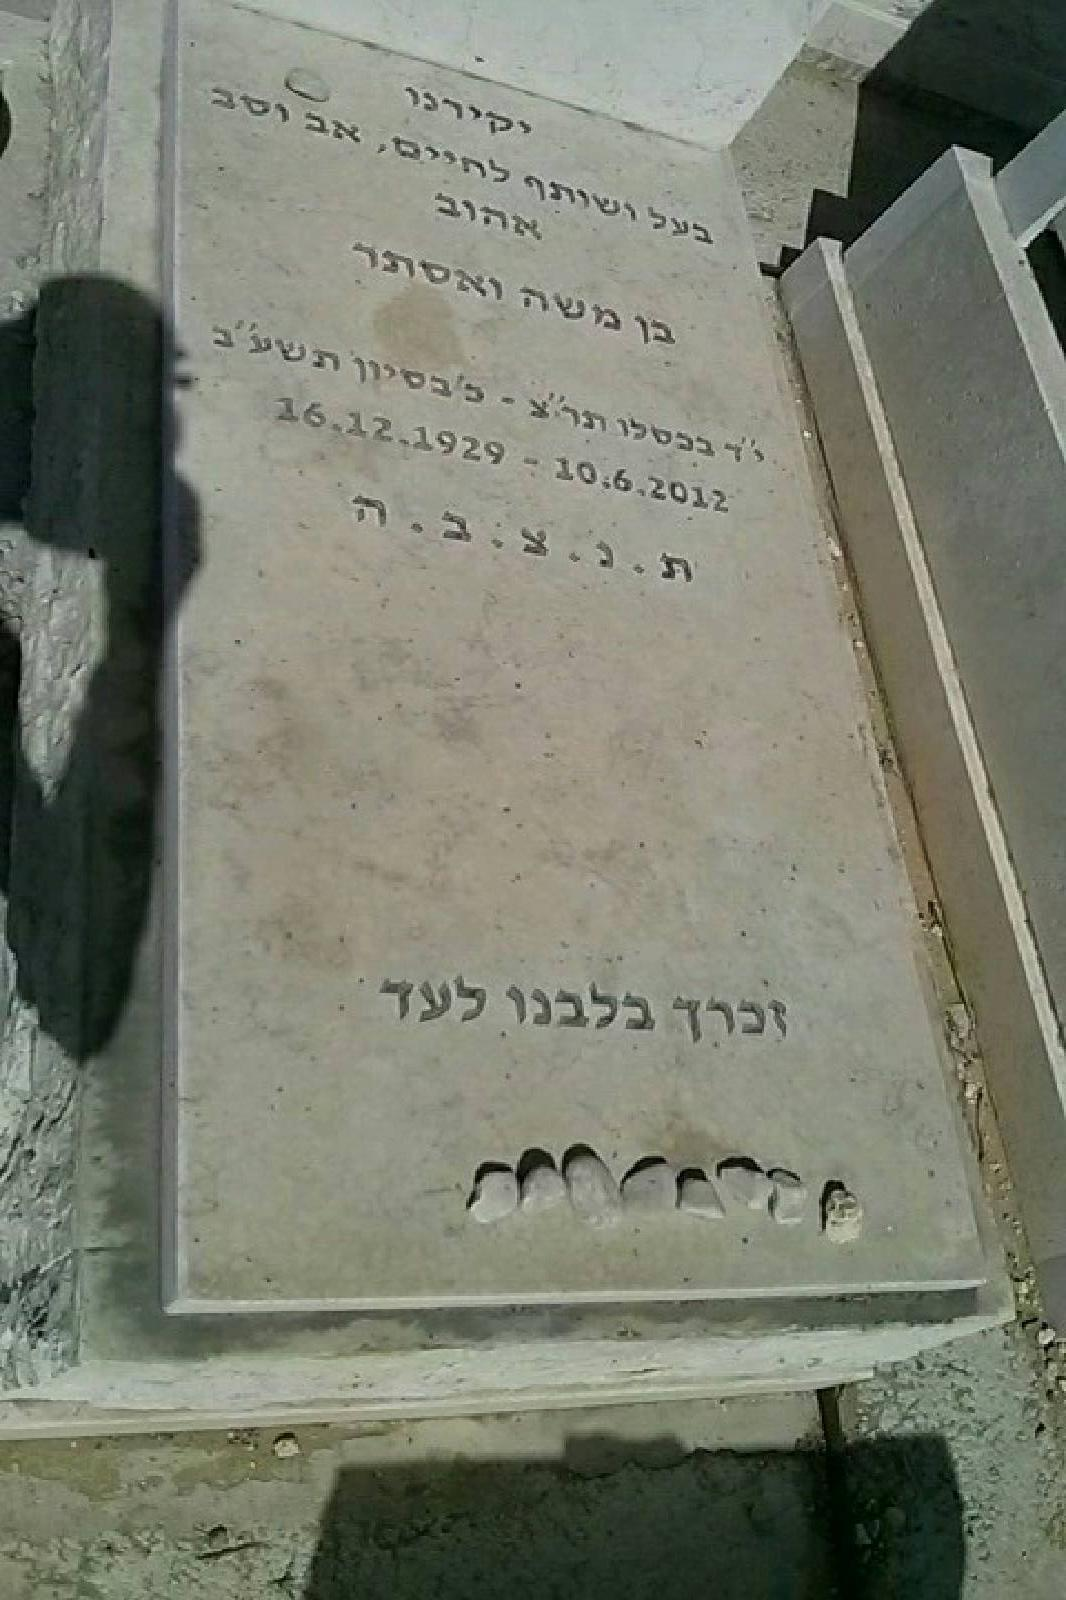vault: (40, 20, 1026, 1588)
